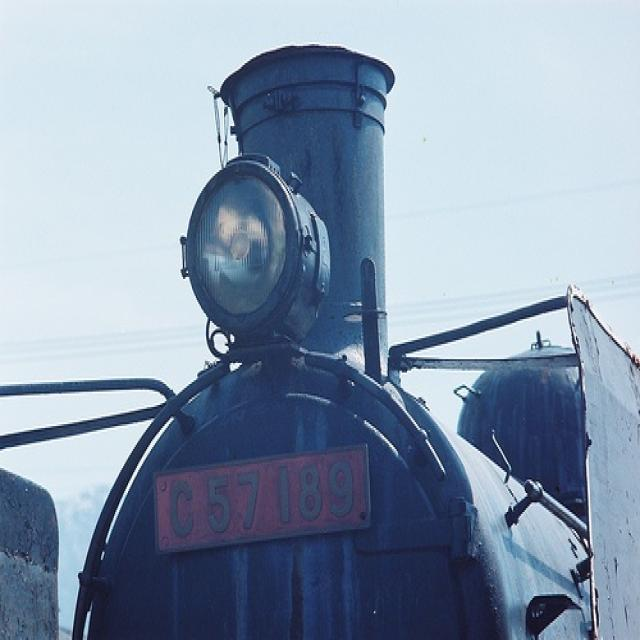train: (2, 2, 638, 636)
